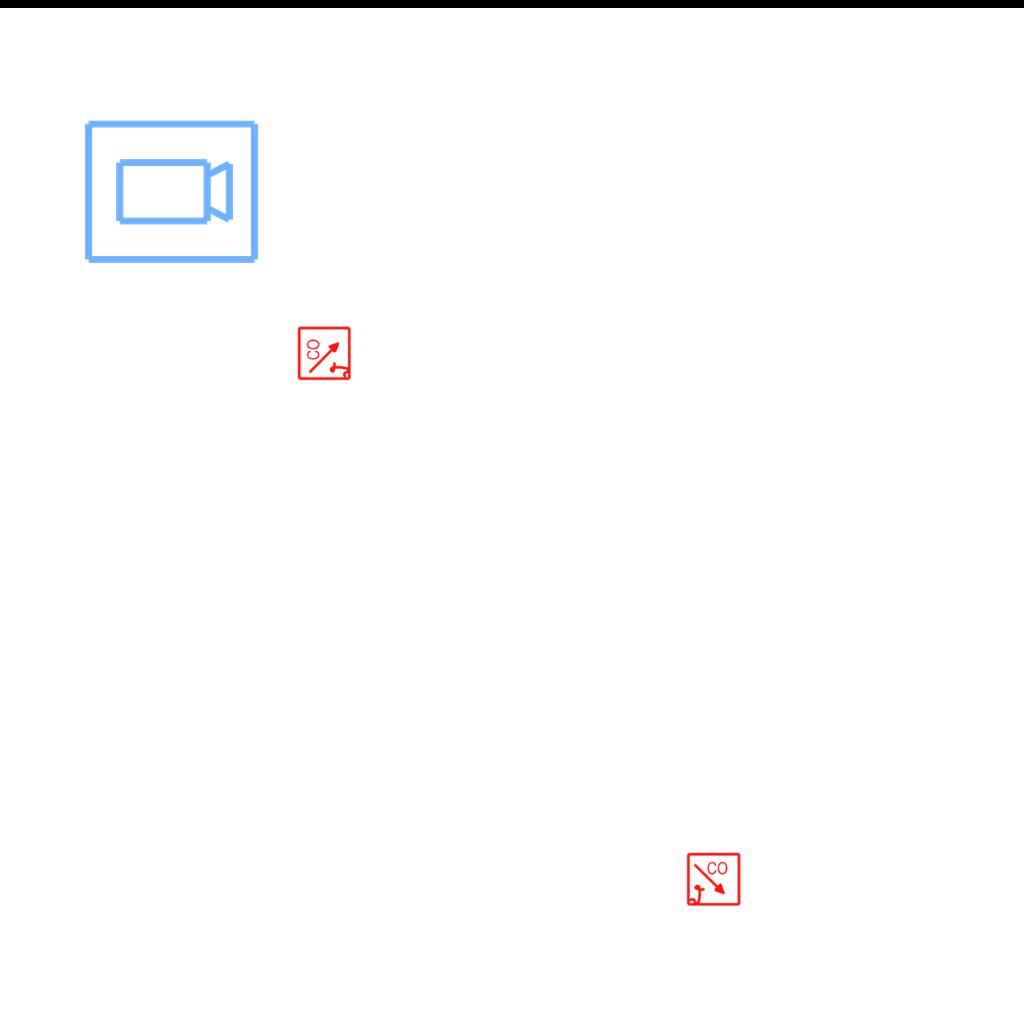KFO_Kamera_mit_Festobjektiv: (80, 116, 262, 270)
ROA_Rauchmelder_optisch_mit_Signalgeber_(Sockelsirene): (297, 325, 353, 381), (686, 852, 742, 908)
